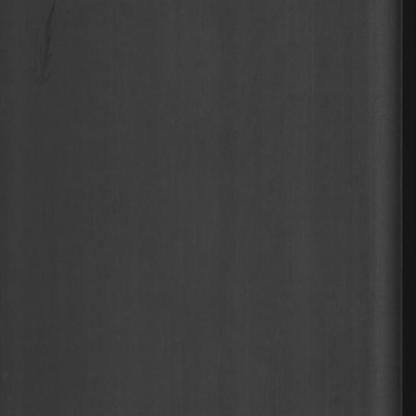water_spot: (28, 0, 74, 94)
